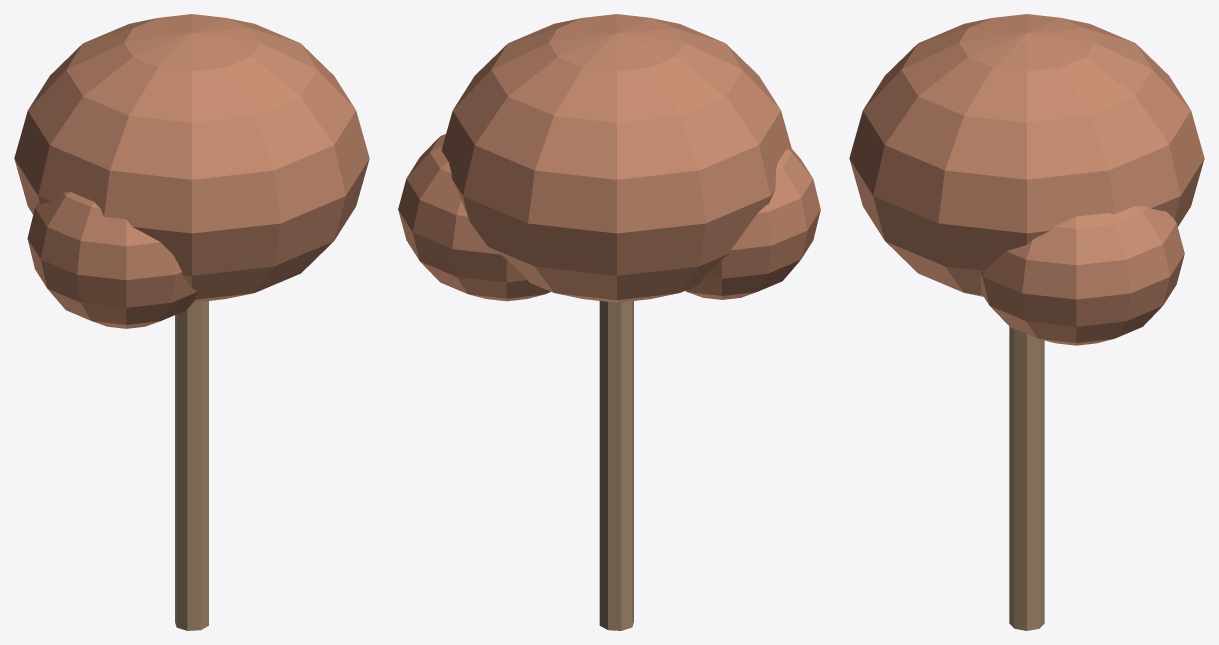
The model's file is red_oak.glb.
3 views of the same model, side by side, from view 1: azimuth 30°, elevation 25°; view 2: azimuth 150°, elevation 25°; view 3: azimuth 270°, elevation 25° (orthographic).
Parts seen in each view (by area): view 1: canopy1, canopy3, trunk; view 2: canopy1, trunk, canopy2, canopy3; view 3: canopy1, canopy2, trunk.
Boxes of the visible parts, x1,y1,x2,y2 form: canopy1: (14, 14, 369, 302); canopy3: (27, 192, 197, 328); trunk: (175, 301, 208, 630); canopy1: (441, 14, 792, 302); trunk: (599, 301, 633, 630); canopy2: (398, 134, 550, 301); canopy3: (685, 149, 820, 299); canopy1: (849, 14, 1204, 296); canopy2: (980, 206, 1184, 345); trunk: (1009, 327, 1044, 630).
Bounding box in the file's own units: 4.1 × 6.6 × 3.6.
